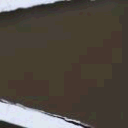crackTip: (1, 1, 128, 127)
